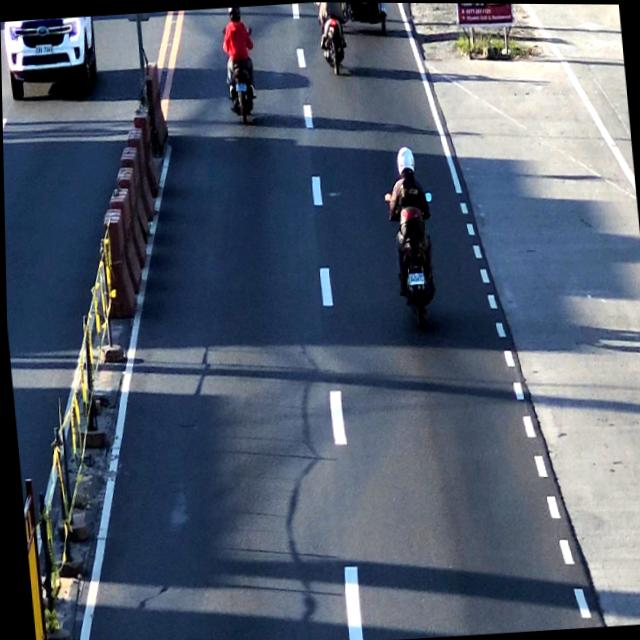License-Plate: (406, 270, 426, 287), (233, 80, 249, 92)
Motorcycle: (379, 138, 443, 337), (220, 6, 257, 120), (312, 2, 349, 76)
